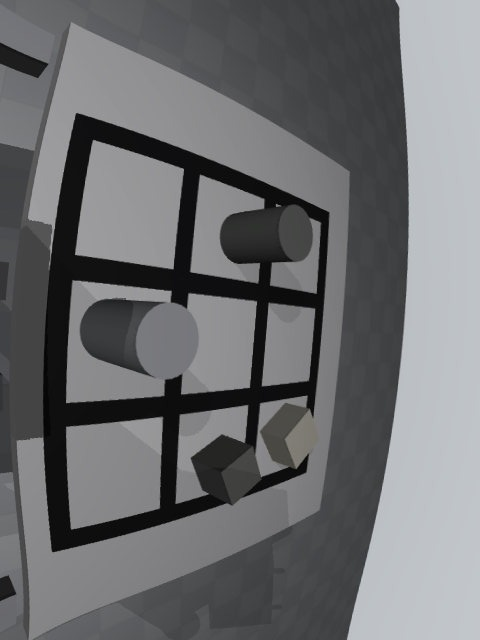can: (80, 299, 199, 380)
cube: (190, 434, 262, 506)
cylinder: (220, 204, 313, 264)
foam: (259, 403, 319, 469)
